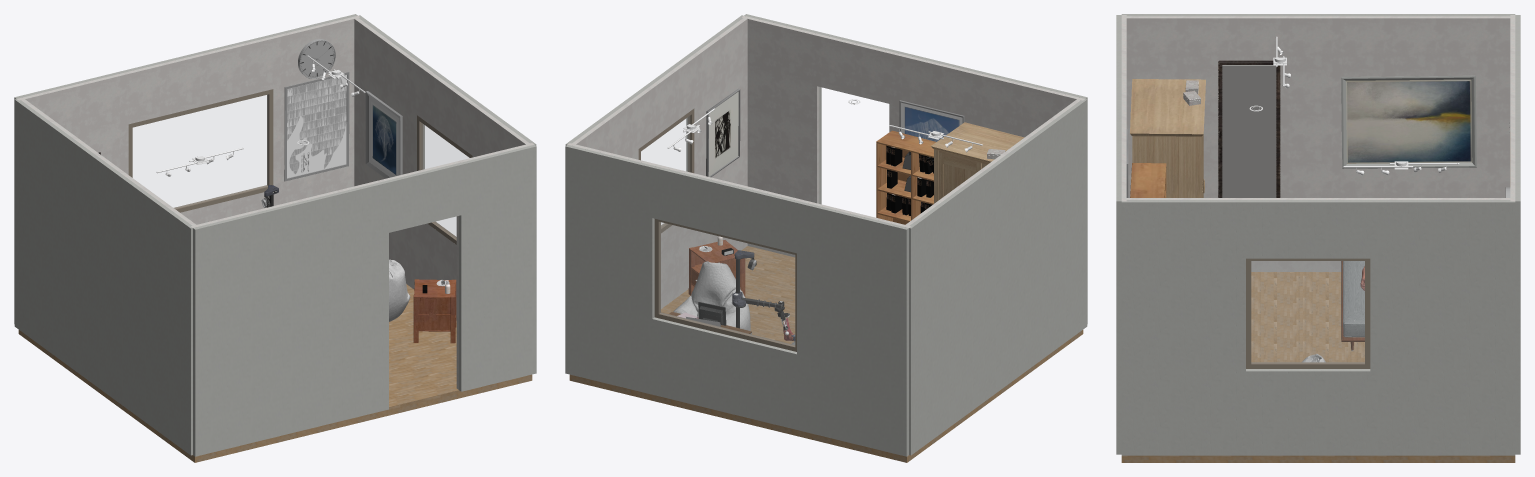
3 renders of one model, left to right at view 1: azimuth 30°, elevation 25°; view 2: azimuth 150°, elevation 25°; view 3: azimuth 270°, elevation 25°, orthographic. The views are drawn at different scales.
Parts seen in each view (by area): view 1: world (×12), glass (×2), room_geometry_bedroom__v0, frame (×2), mig_01___Default; view 2: world (×12), glass (×2), room_geometry_bedroom__v0, Shader1.002, frame (×2), mig_01___Default; view 3: world (×13), room_geometry_bedroom__v0, glass, Shader1.002, frame.
Boxes of the visible parts, box(x1,y1,x2,y2) form: world (×12): box(14, 14, 536, 456); glass (×2): box(133, 95, 468, 237); room_geometry_bedroom__v0: box(18, 284, 532, 462); frame (×2): box(128, 89, 472, 244); mig_01___Default: box(389, 259, 410, 321); world (×12): box(565, 14, 1087, 456); glass (×2): box(641, 116, 794, 345); room_geometry_bedroom__v0: box(569, 246, 1083, 462); Shader1.002: box(930, 122, 1024, 203); frame (×2): box(638, 108, 796, 351); mig_01___Default: box(673, 261, 750, 330); world (×13): box(1116, 14, 1520, 455); room_geometry_bedroom__v0: box(1121, 272, 1515, 462); glass: box(1251, 261, 1364, 362); Shader1.002: box(1130, 79, 1205, 197); frame: box(1246, 258, 1370, 368).
Bounding box in the file's own units: 4.3 × 2.8 × 3.9.
Materials: 66 (41 with a texture image).
